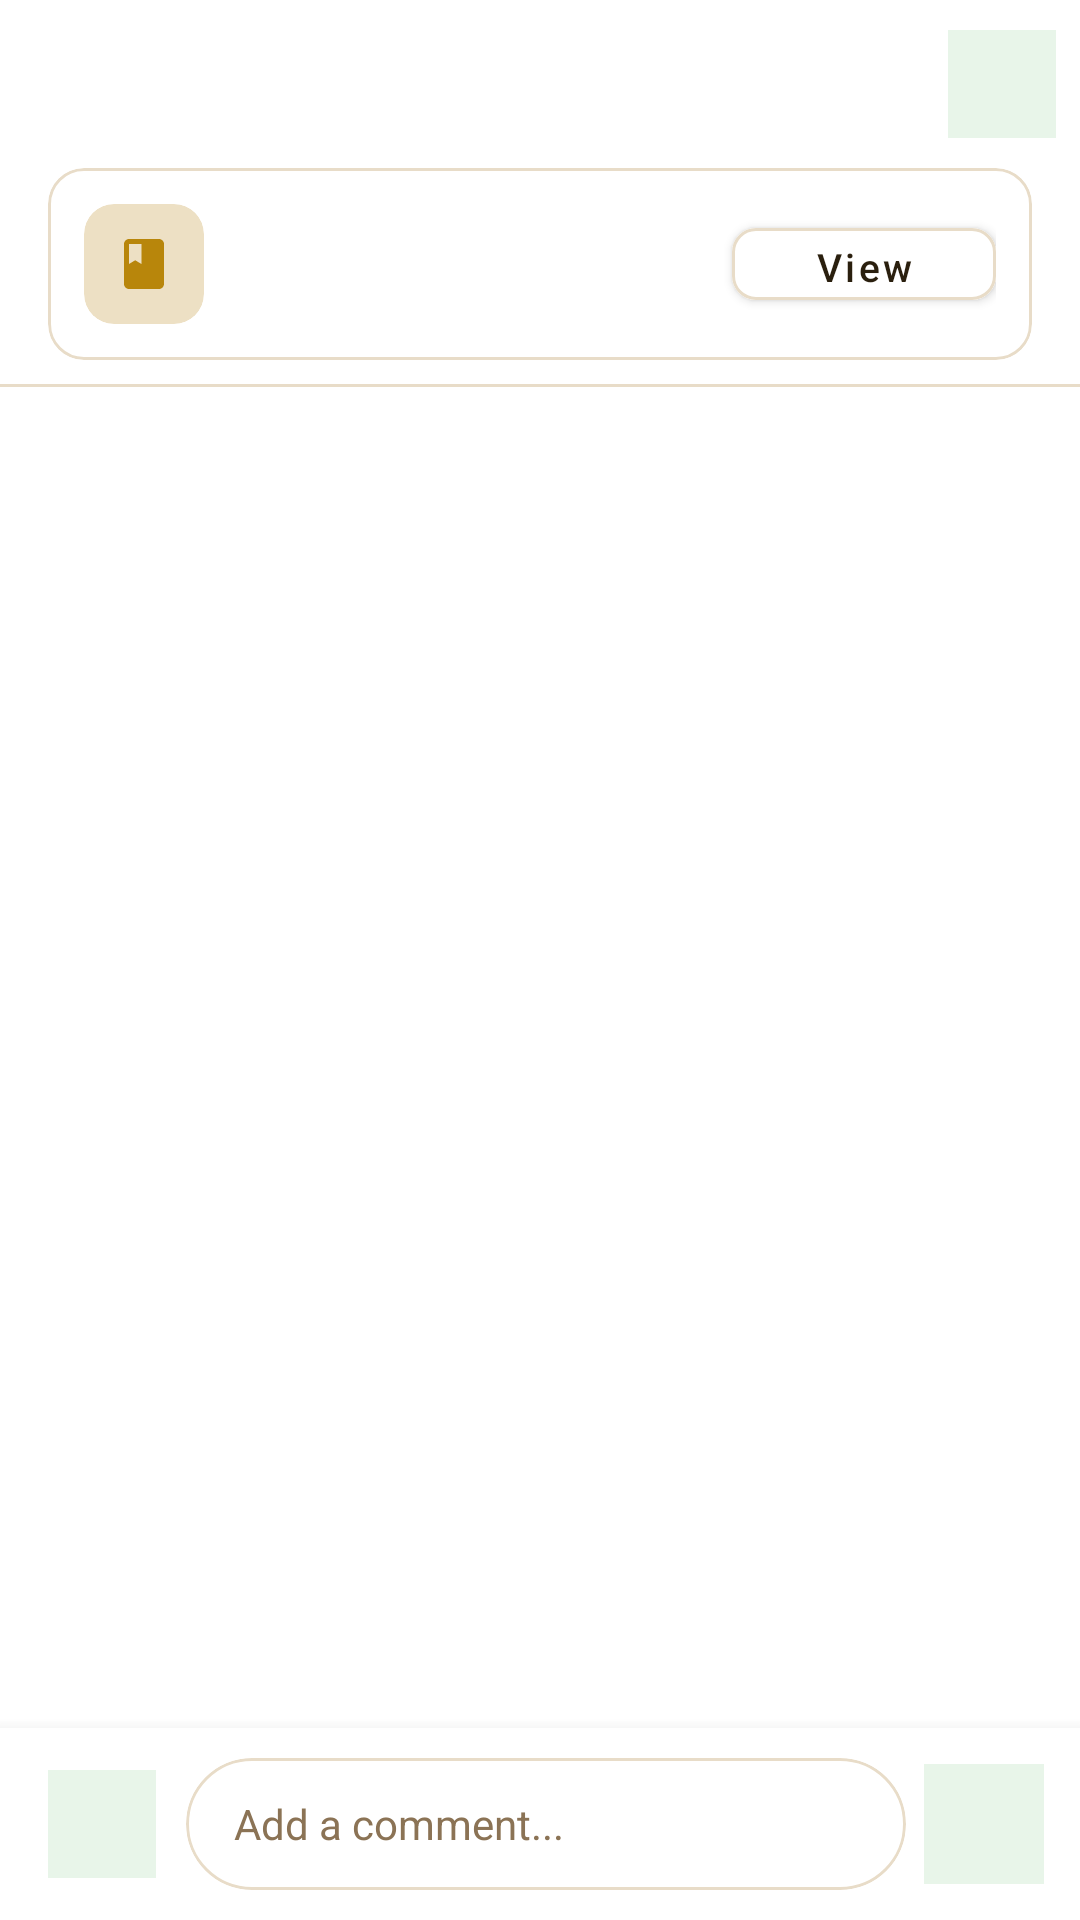

Icon click points for this 1080 x 1920 phone screenshot, format (x=x, y=y):
book: (x=144, y=264)
